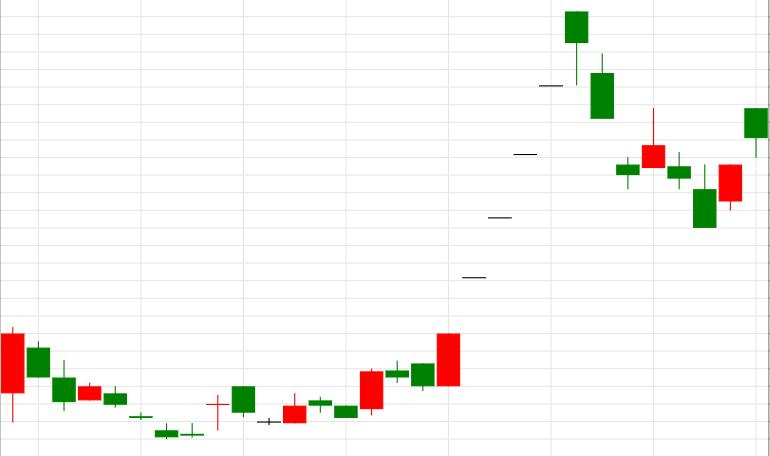hanging_man_fall: (411, 12, 588, 391)
